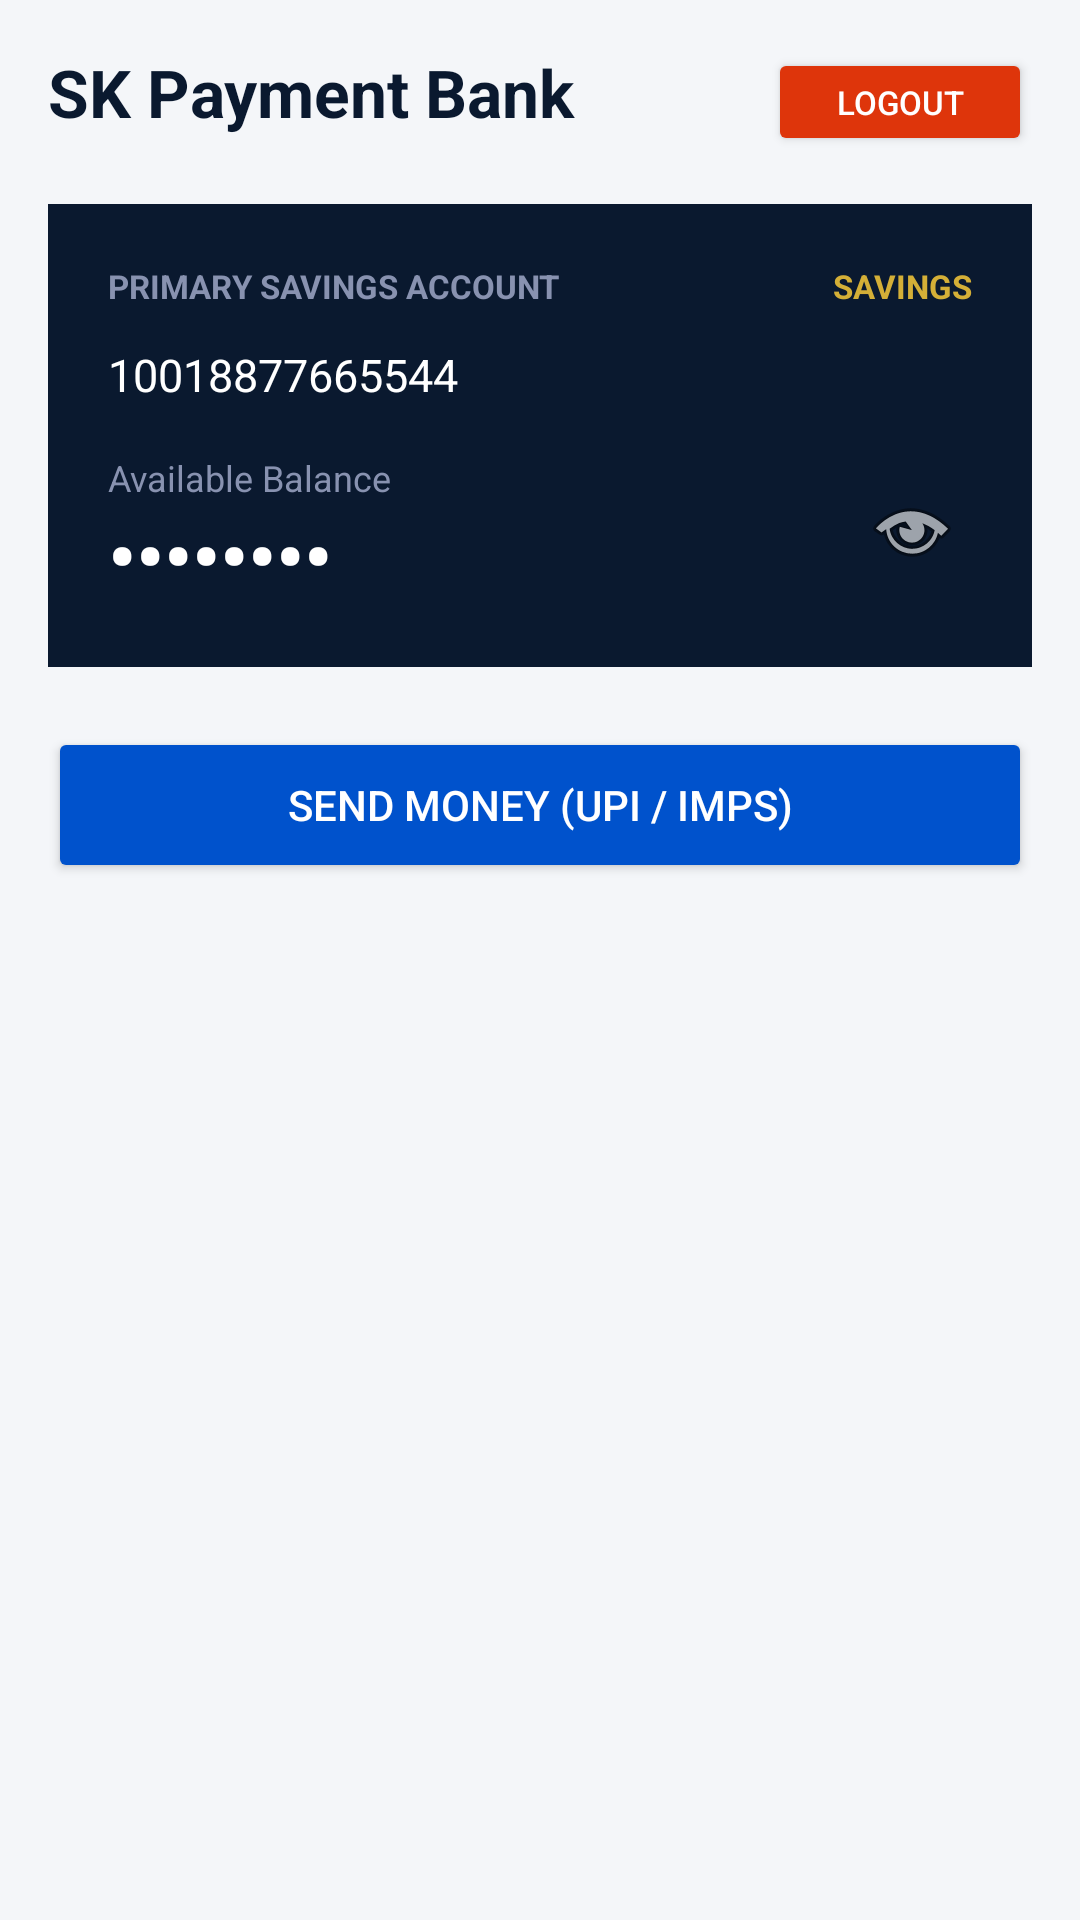

Icon bounding boxes for this 1080*1920 phone screenshot, format bbox(x1, y1, x2, y2):
Toggle Balance: bbox(875, 510, 949, 555)
